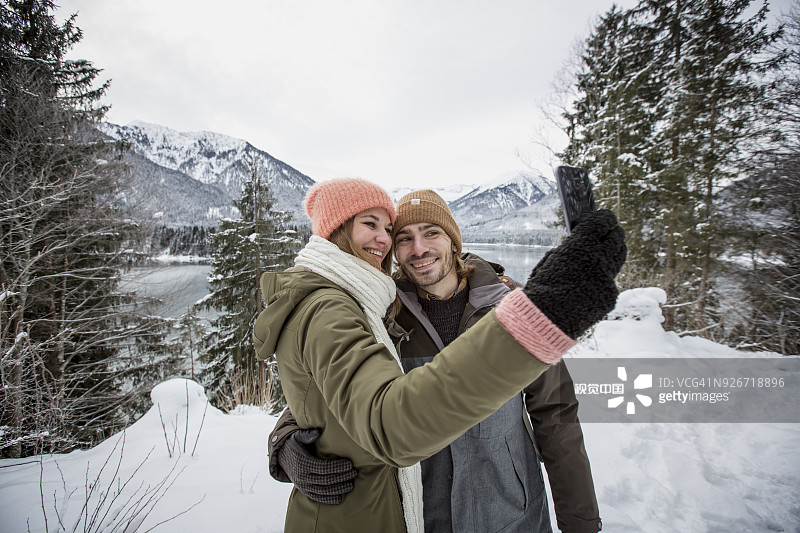taking photos: (522, 159, 649, 341)
